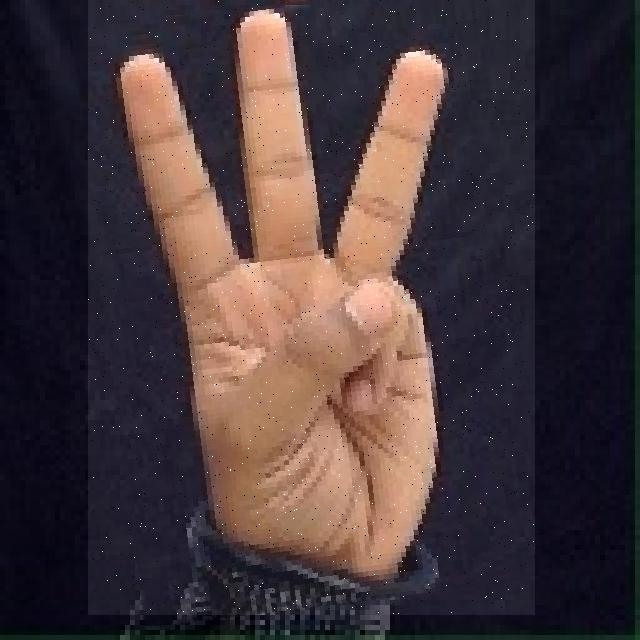Please: (88, 0, 535, 615)
